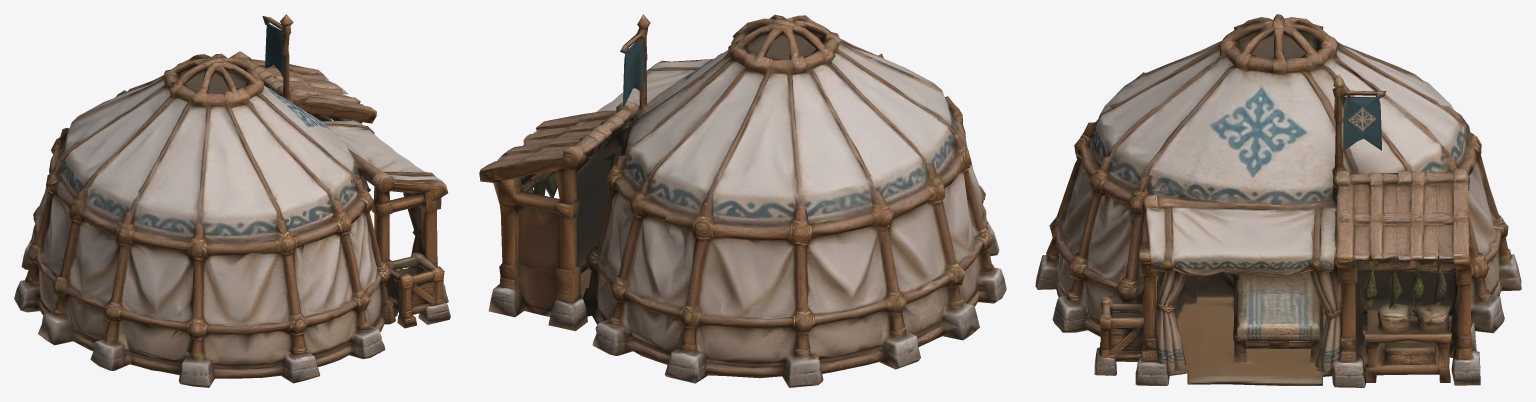
Rendered from sifa-sv5.glb.
3 renders of one model, left to right at view 1: azimuth 30°, elevation 25°; view 2: azimuth 150°, elevation 25°; view 3: azimuth 270°, elevation 25°, orthographic. The views are drawn at different scales.
Parts seen in each view (by area): view 1: tripo_node_405246c0-eecc-449a-9f04-64642d1ed175; view 2: tripo_node_405246c0-eecc-449a-9f04-64642d1ed175; view 3: tripo_node_405246c0-eecc-449a-9f04-64642d1ed175.
Part boxes in pixels (left/top/right/bottom): tripo_node_405246c0-eecc-449a-9f04-64642d1ed175: left=14, top=14, right=450, bottom=387; tripo_node_405246c0-eecc-449a-9f04-64642d1ed175: left=479, top=14, right=1006, bottom=387; tripo_node_405246c0-eecc-449a-9f04-64642d1ed175: left=1035, top=14, right=1521, bottom=387.
Bounding box in the file's own units: 0.9587 × 0.621 × 1.
Materials: 1 (1 with a texture image).
